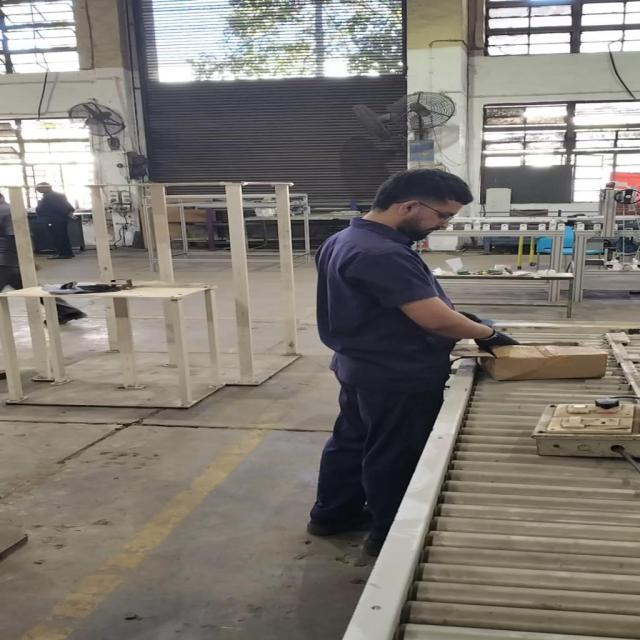Gloves-Detection: (458, 309, 509, 346)
